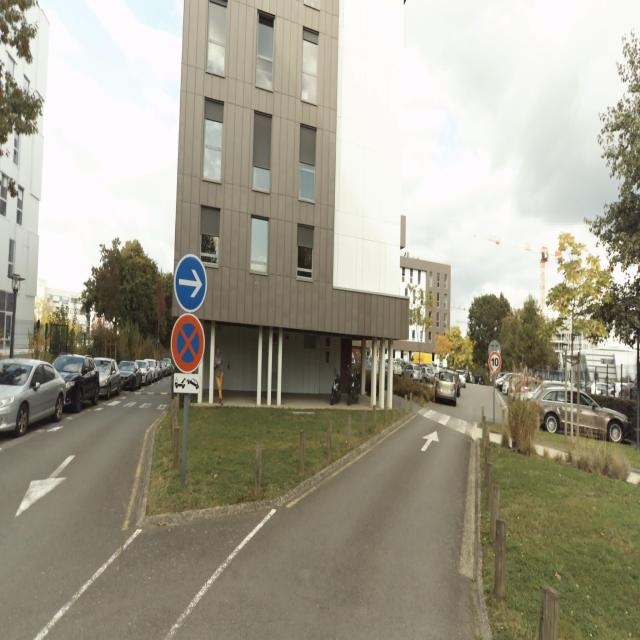bike: (331, 369, 360, 404)
car: (535, 385, 635, 443), (0, 358, 66, 438), (52, 353, 100, 410), (92, 356, 121, 398), (434, 370, 458, 405), (116, 360, 142, 390), (134, 359, 152, 385), (147, 359, 160, 381), (457, 370, 467, 386), (160, 358, 168, 377), (164, 358, 172, 374)
